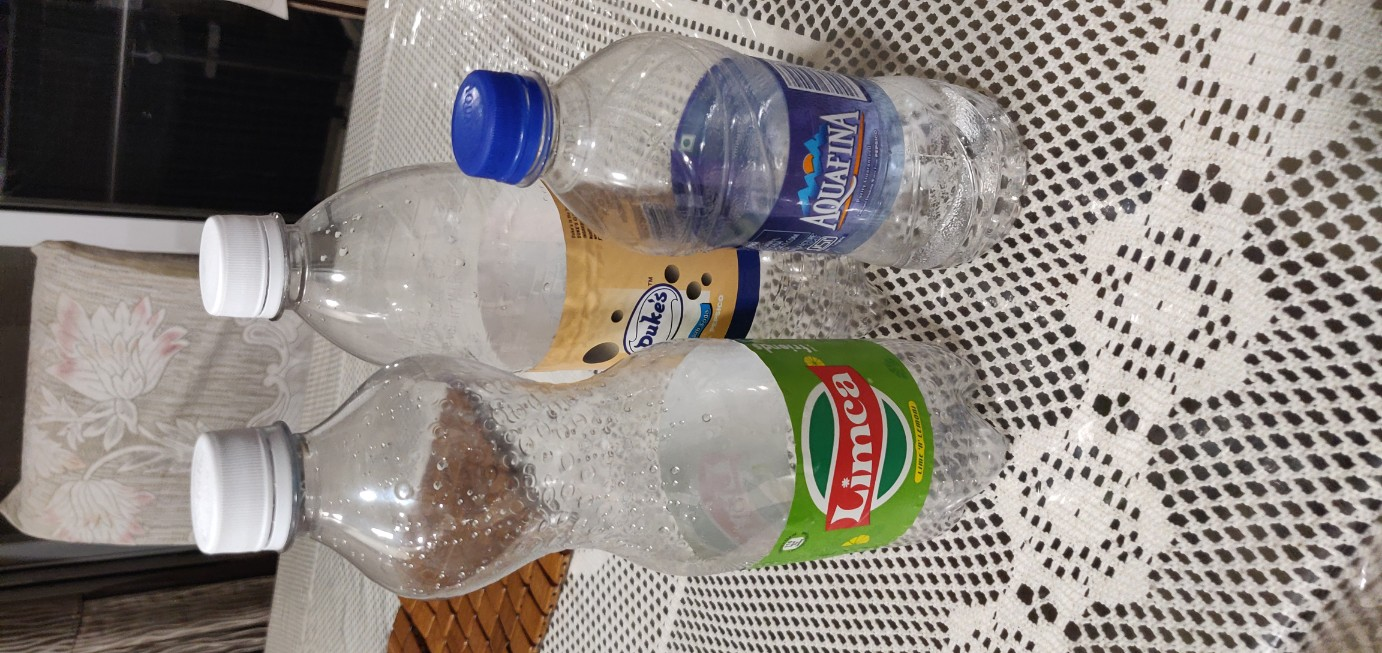Electronics: (146, 320, 1041, 617), (141, 150, 975, 411), (423, 20, 1048, 301)
